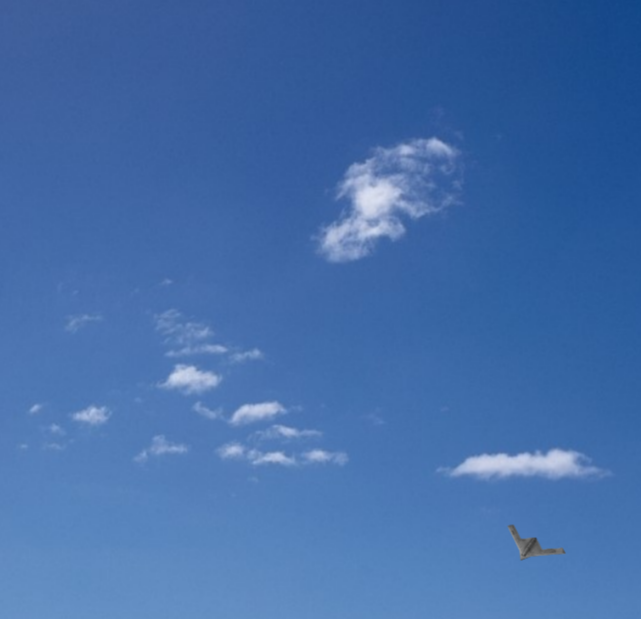military drone: (507, 524, 566, 560)
